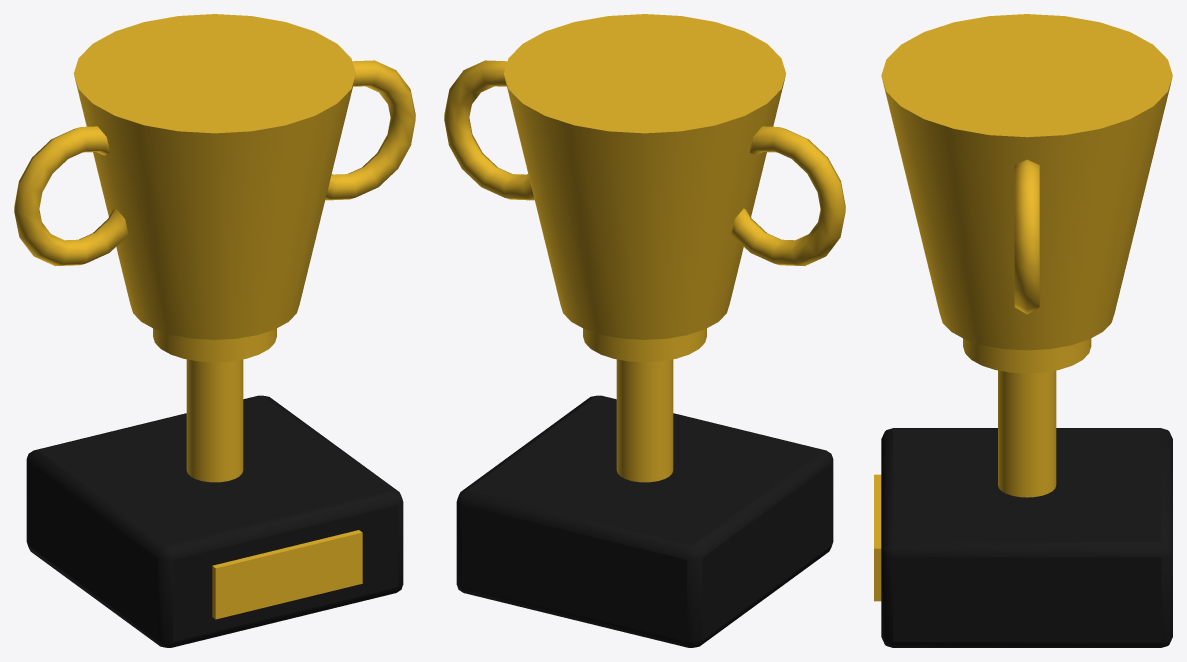
The model's file is trophy.fbx.
3 views of the same model, side by side, from view 1: azimuth 30°, elevation 25°; view 2: azimuth 150°, elevation 25°; view 3: azimuth 270°, elevation 25° (orthographic). The views are drawn at different scales.
Visible parts, largest first — view 1: Trophy; view 2: Trophy; view 3: Trophy.
Part boxes in pixels (bbox=[...]): Trophy: bbox=[14, 14, 415, 647]; Trophy: bbox=[444, 14, 845, 647]; Trophy: bbox=[874, 14, 1172, 647].
Bounding box in the file's own units: 0.164 × 0.195 × 0.1025.
